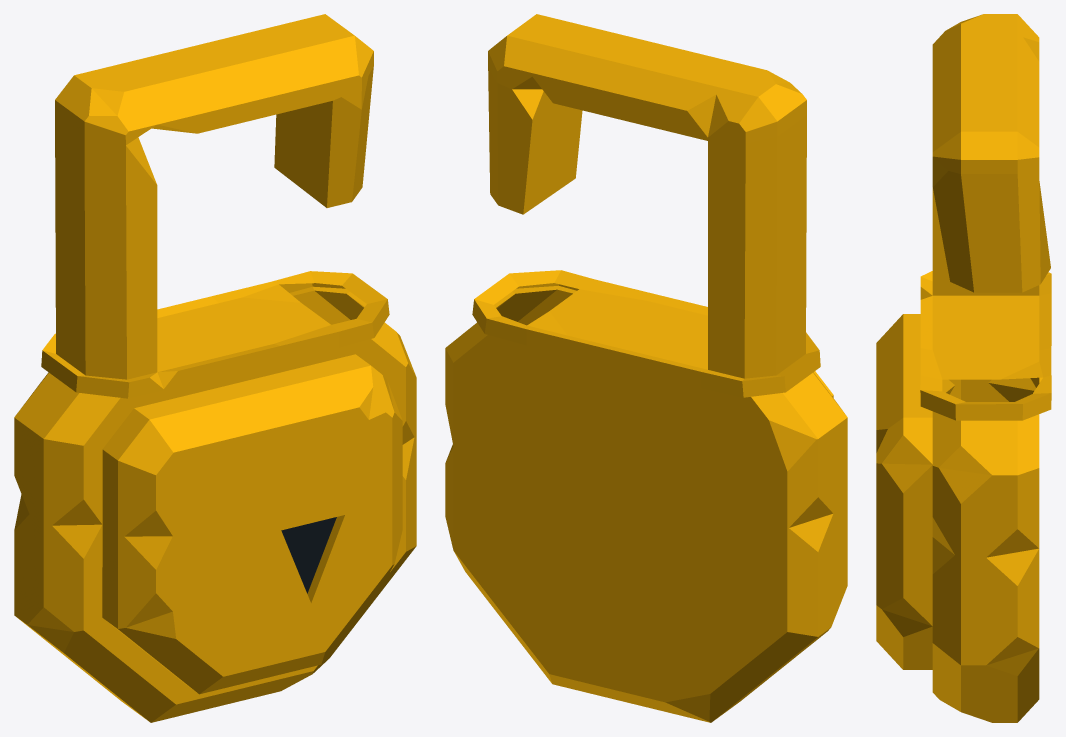
File: test_unlock.glb
3 views of the same model, side by side, from view 1: azimuth 30°, elevation 25°; view 2: azimuth 150°, elevation 25°; view 3: azimuth 270°, elevation 25° (orthographic). The views are drawn at different scales.
Parts seen in each view (by area): view 1: Circle.015; view 2: Circle.015; view 3: Circle.015.
Boxes of the visible parts, x1=… form: Circle.015: x1=14, y1=14, x2=416, y2=722; Circle.015: x1=445, y1=14, x2=847, y2=722; Circle.015: x1=876, y1=14, x2=1051, y2=722.
Size of the model in its own units: 2 by 3.27 by 0.8475.
Materials: 1 (1 with a texture image).
